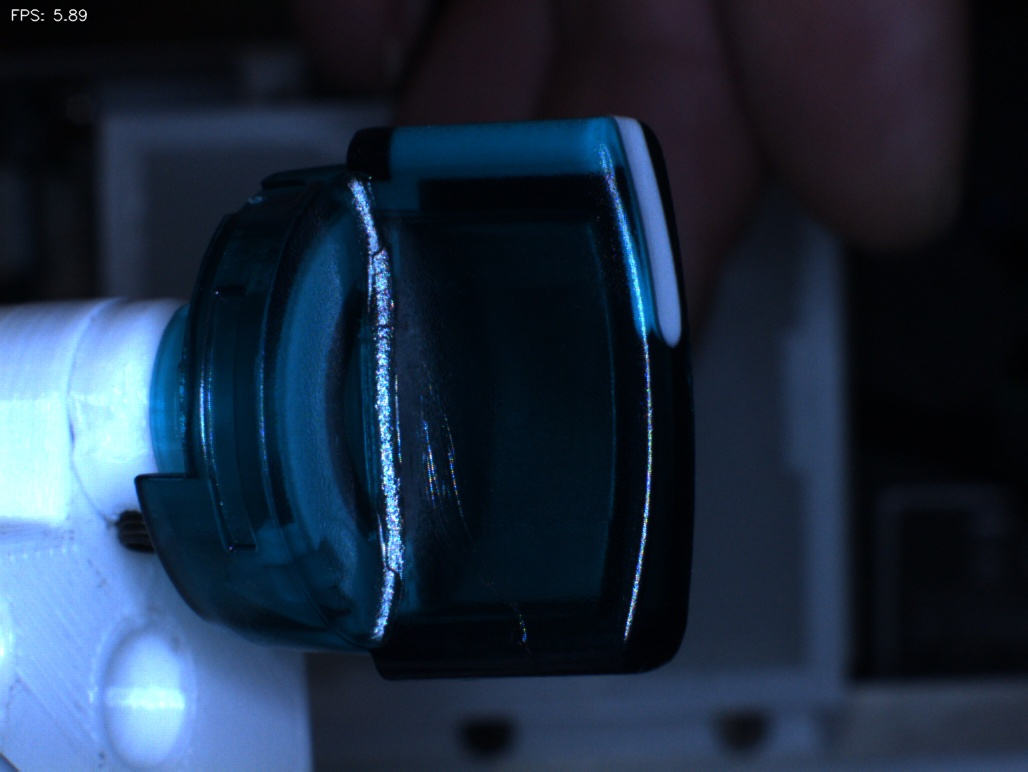Givrage: (409, 367, 531, 651)
